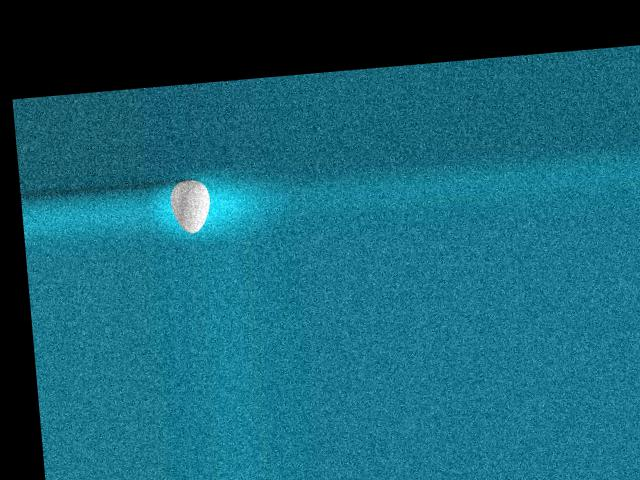egg: (168, 177, 212, 234)
